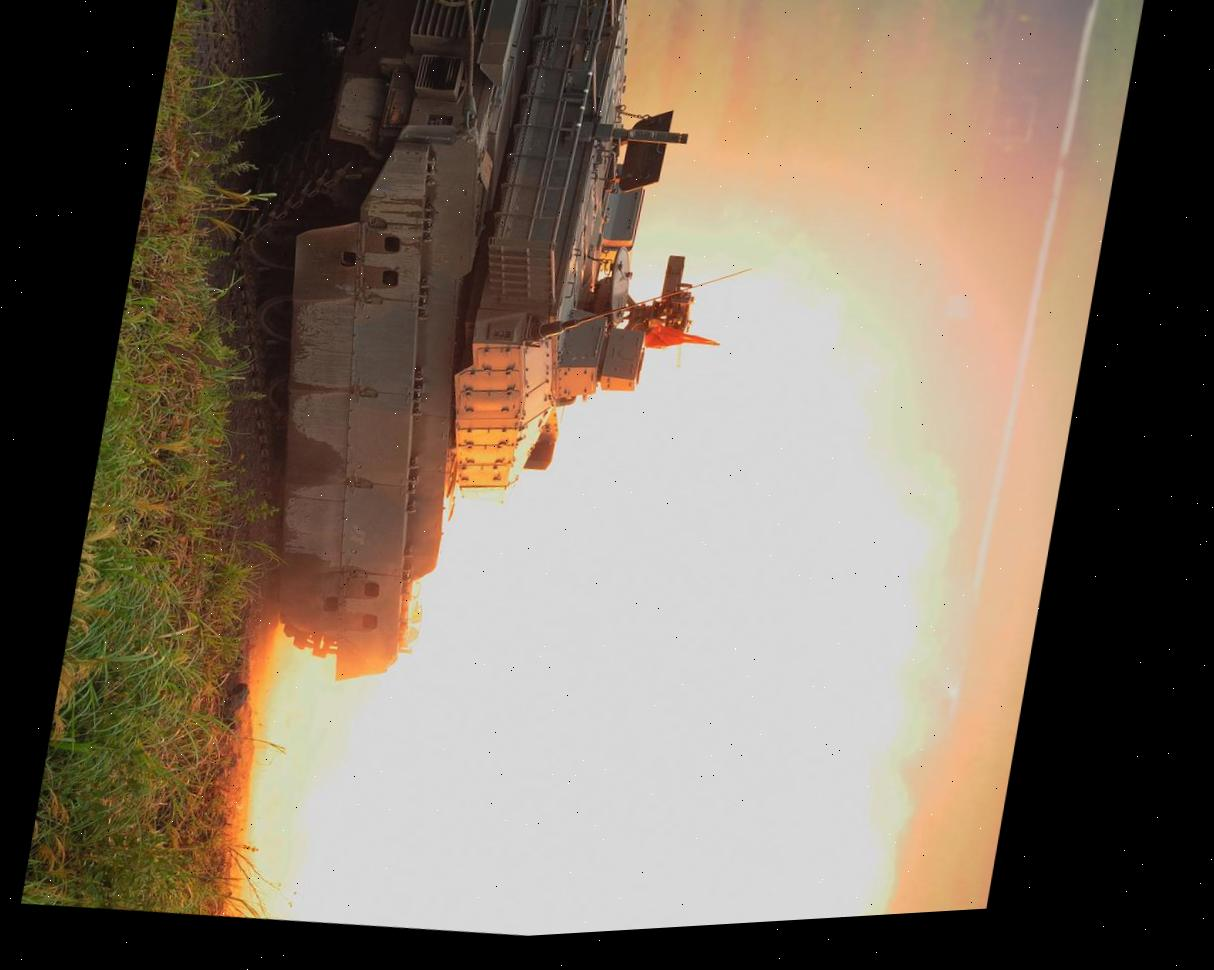tank: (148, 0, 753, 729)
